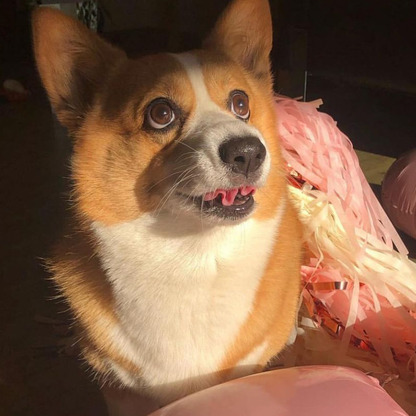Corgi: (31, 11, 321, 381)
